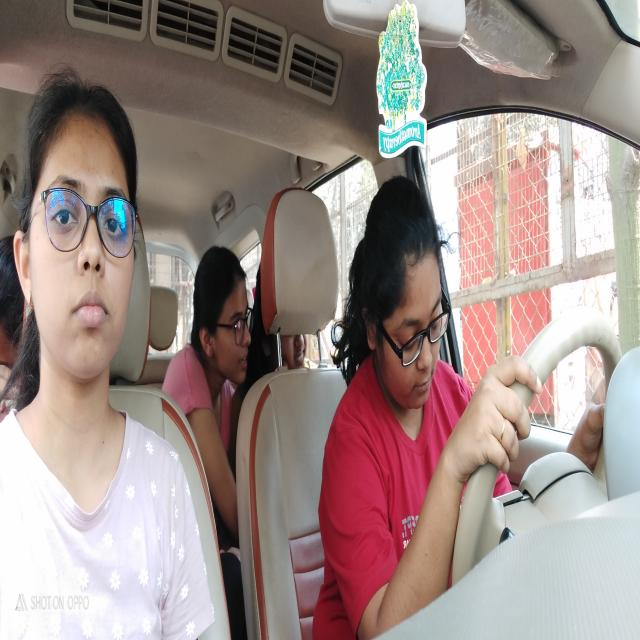drowsy: (346, 166, 461, 435)
person: (12, 46, 144, 404), (182, 237, 266, 404)
